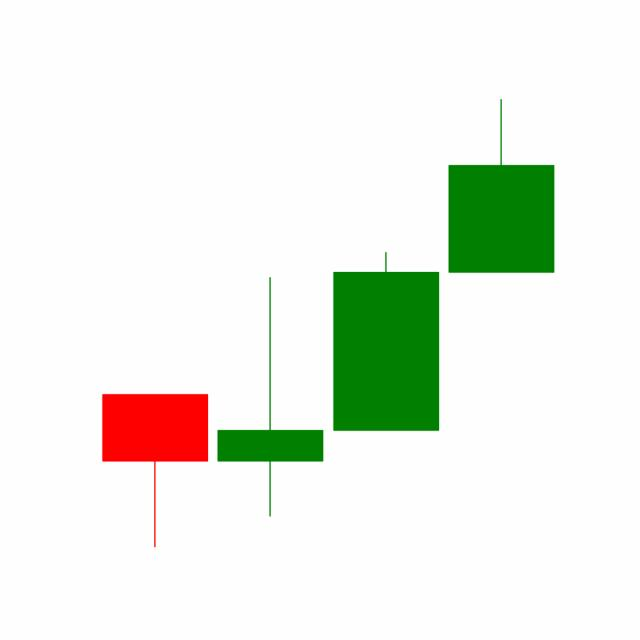Marubozu: (328, 250, 444, 432)
